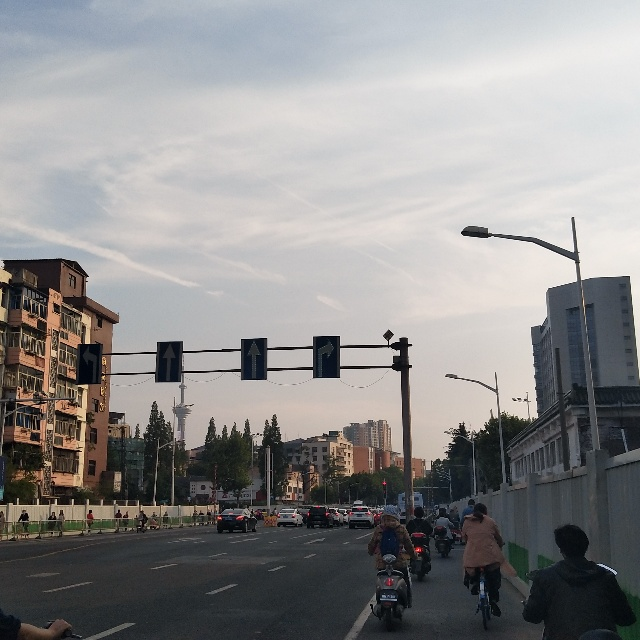left: (80, 346, 99, 382)
right: (317, 334, 342, 385)
straight: (157, 341, 180, 379), (247, 343, 266, 385)
